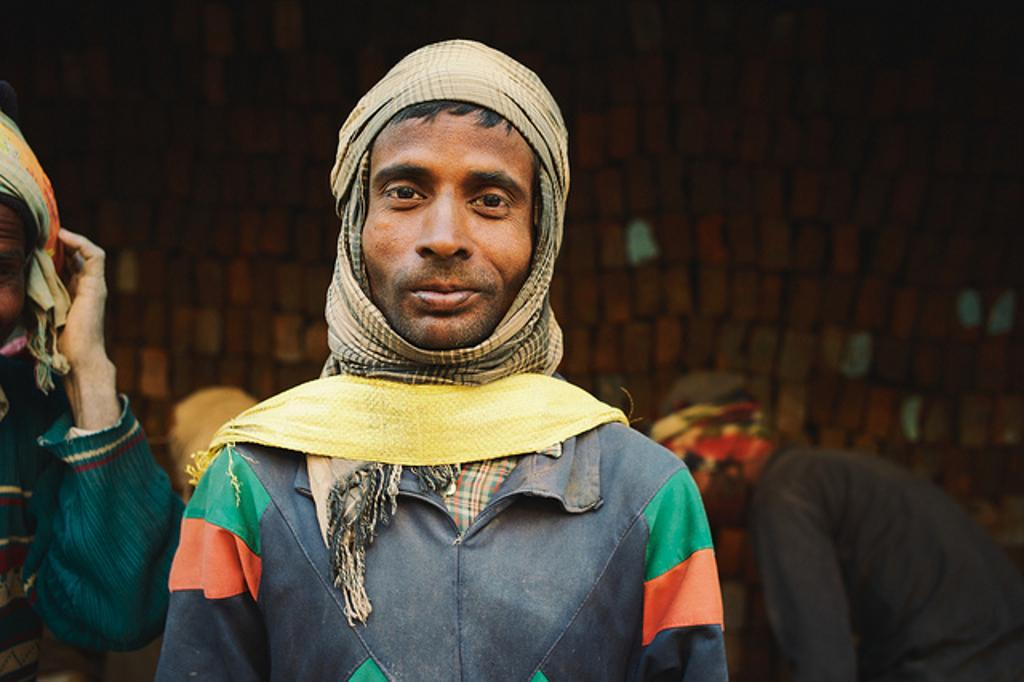face: (366, 114, 534, 332)
